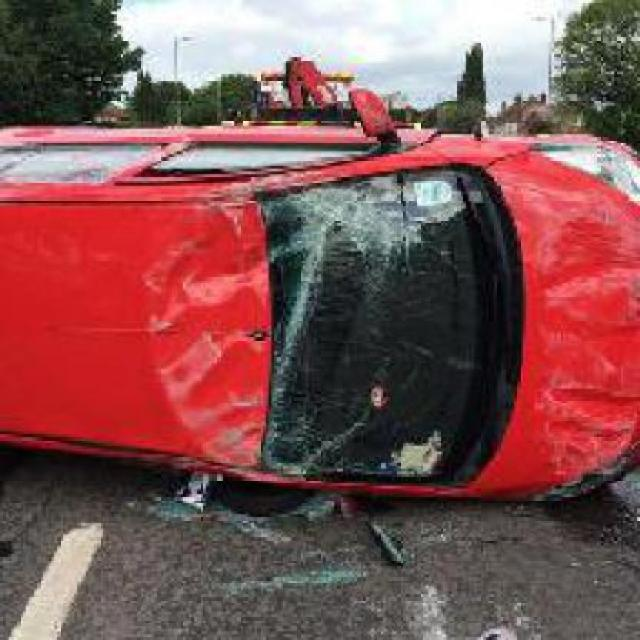damaged-hood: (488, 143, 638, 483)
damaged-windscreen: (236, 170, 512, 496)
